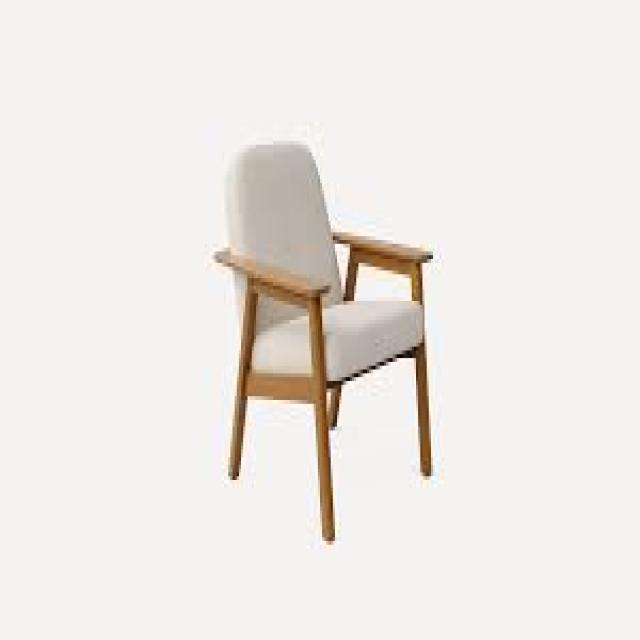chair: (174, 111, 469, 597)
